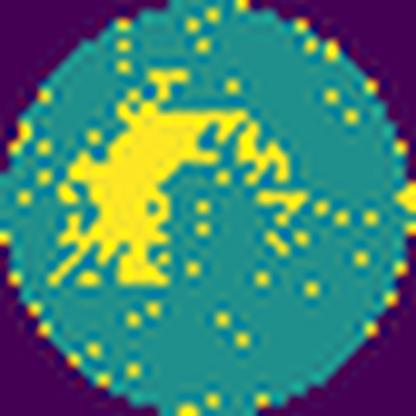Donut: (49, 64, 324, 296)
